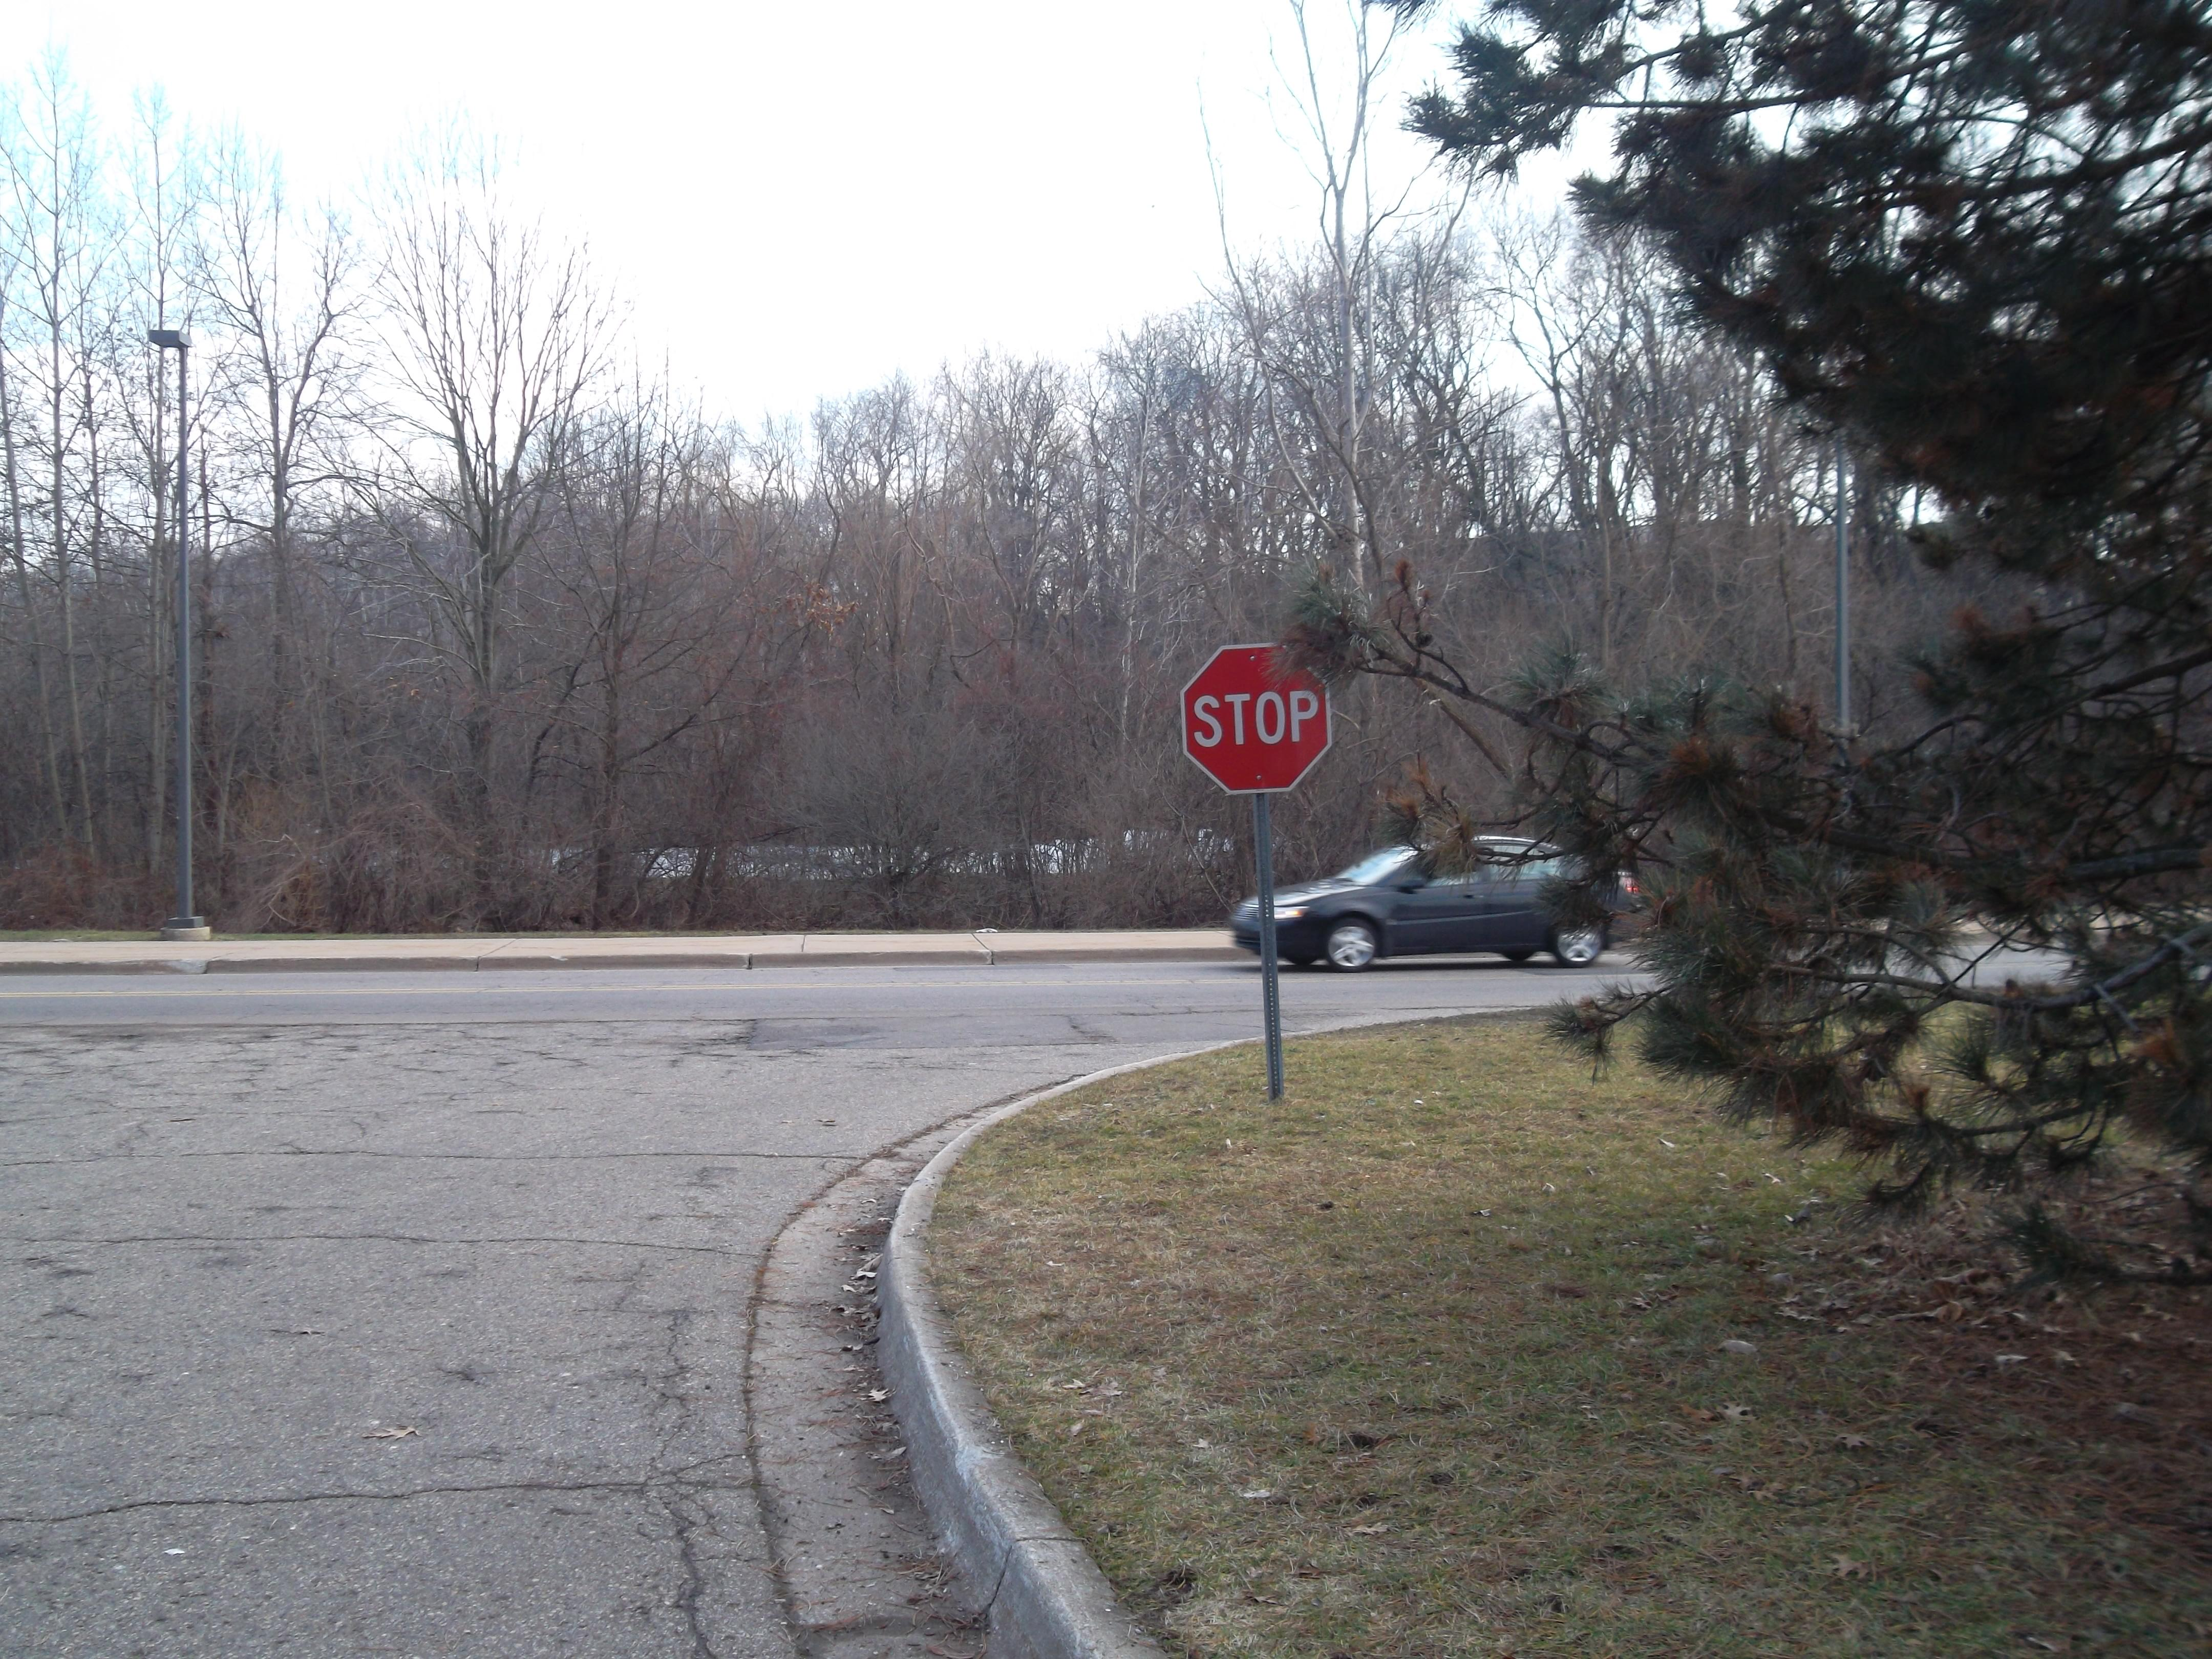stop: (1181, 641, 1336, 798)
